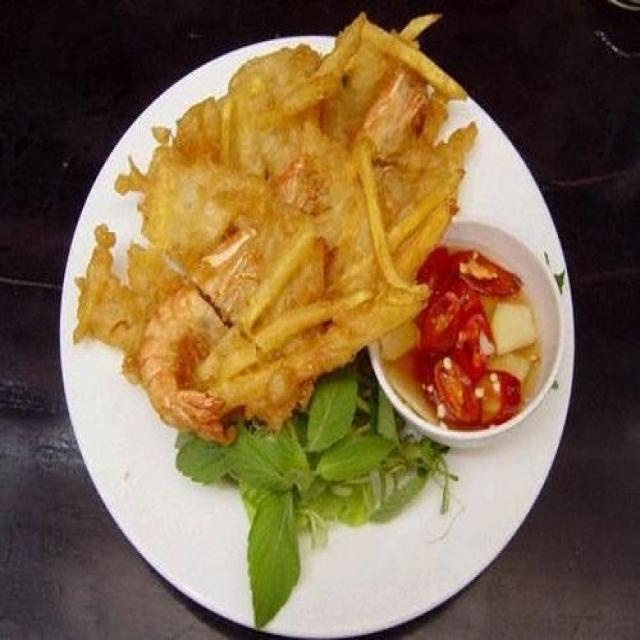炸货点心: (37, 12, 585, 626)
熟制海鲜: (37, 12, 585, 626)
